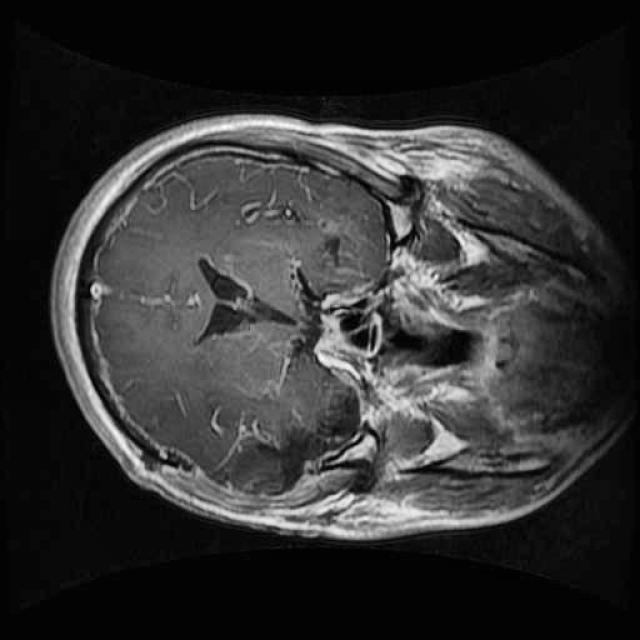Tumor: (241, 383, 377, 506)
